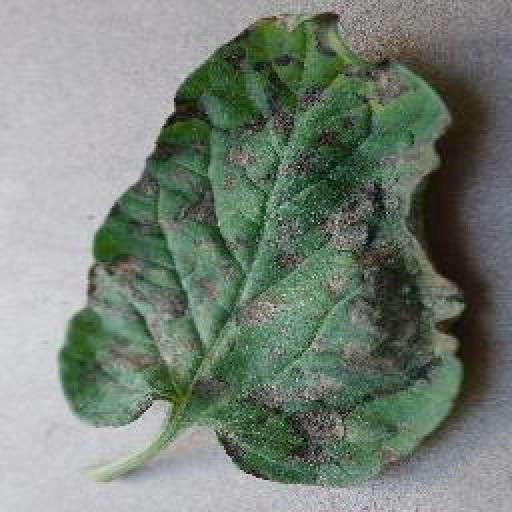disease_tomato: (52, 8, 466, 492)
